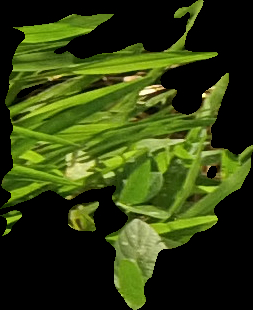grass: (1, 1, 252, 309)
